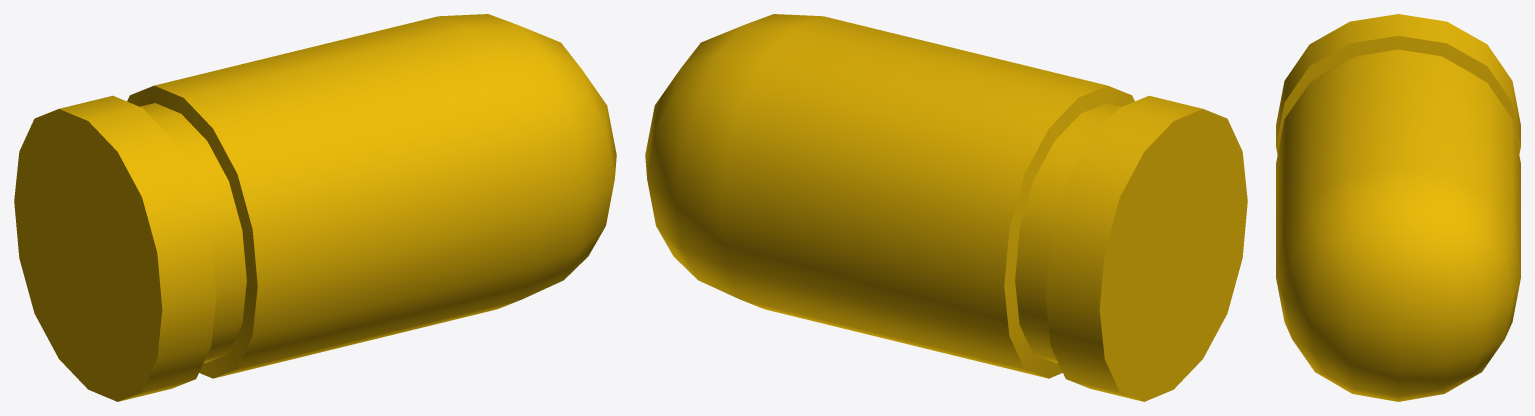
File: Bullet.glb
The picture shows the model from 3 angles, left to right: view 1: azimuth 30°, elevation 25°; view 2: azimuth 150°, elevation 25°; view 3: azimuth 270°, elevation 25°; orthographic projection. The views are drawn at different scales.
Parts seen in each view (by area): view 1: Cube; view 2: Cube; view 3: Cube.
Boxes of the visible parts, <box> form: Cube: <box>14,14,616,401</box>; Cube: <box>645,14,1247,401</box>; Cube: <box>1276,14,1520,401</box>.
Bounding box in the file's own units: 3.32 × 1.68 × 1.68.
